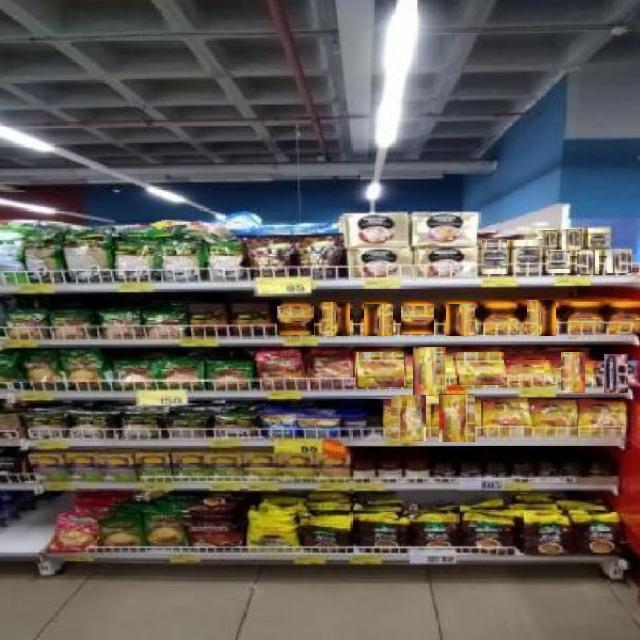Coffee: (355, 351, 404, 387), (439, 394, 475, 442), (483, 399, 530, 435), (390, 395, 426, 441), (414, 346, 446, 396), (457, 352, 504, 385), (532, 400, 575, 435), (579, 402, 624, 435), (276, 305, 314, 335), (526, 300, 556, 336), (508, 360, 551, 385), (484, 304, 519, 334), (560, 352, 585, 393), (568, 303, 602, 333), (515, 239, 543, 275), (446, 303, 475, 336), (401, 305, 434, 334), (321, 303, 350, 336), (604, 354, 628, 393), (365, 303, 393, 336), (609, 304, 640, 333), (481, 240, 507, 274), (607, 249, 631, 273), (577, 250, 599, 274), (547, 251, 570, 273), (563, 228, 582, 250), (589, 228, 608, 247), (539, 229, 557, 247)
